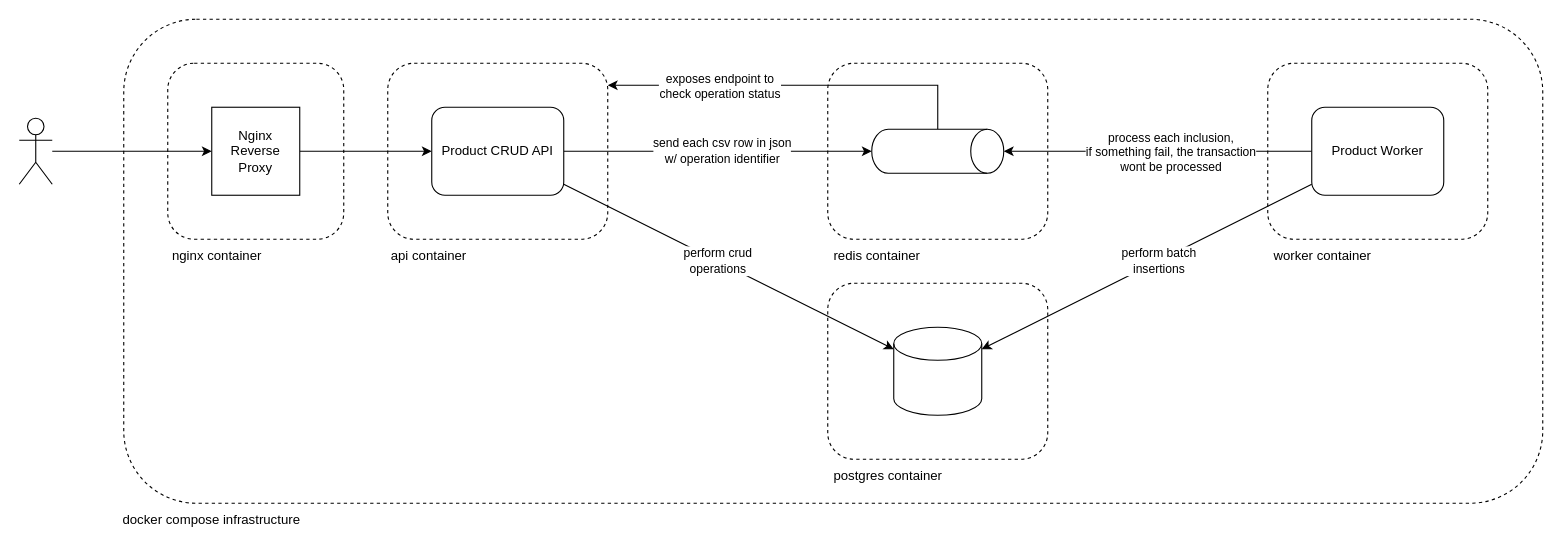
This 1562x556 diagram has some shape labels left out. The box of each missing label's shape, as (x1, y1, x2, y2) in pixels:
PostgreSQL: (893, 326, 982, 415)
Redis Queue: (871, 128, 1004, 173)
